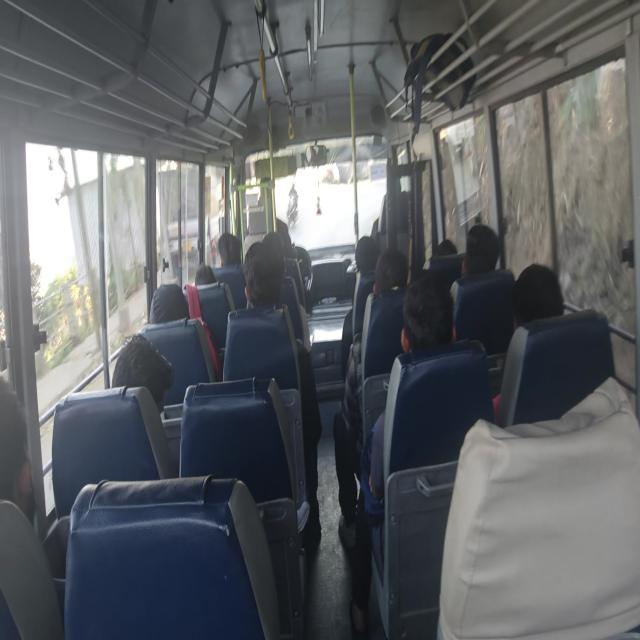person: (343, 271, 456, 637), (222, 230, 322, 542), (333, 247, 409, 547), (0, 374, 65, 637), (492, 262, 564, 423), (111, 333, 174, 418), (0, 374, 35, 523), (450, 223, 500, 303), (511, 262, 564, 330), (149, 282, 189, 324), (217, 232, 241, 267), (194, 263, 217, 286)
